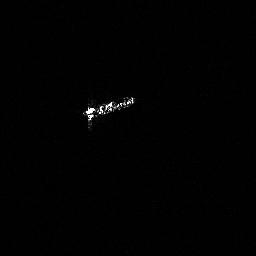ship: (80, 91, 137, 131)
